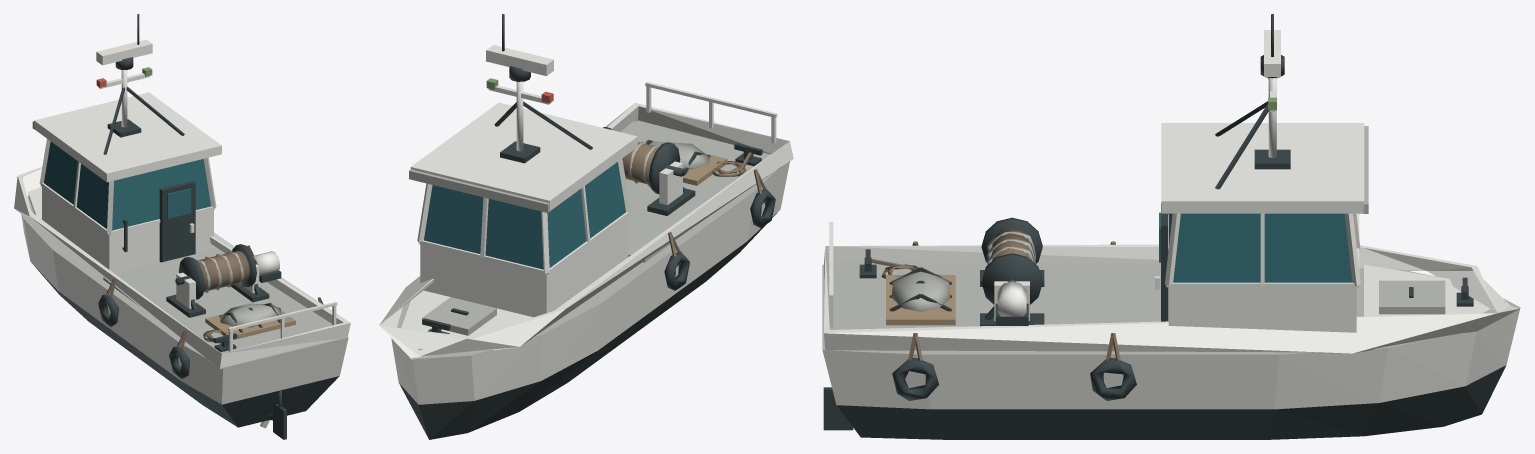
Rendered from ENV_FishingBoat_LOD1.fbx.
3 views of the same model, side by side, from view 1: azimuth 30°, elevation 25°; view 2: azimuth 150°, elevation 25°; view 3: azimuth 270°, elevation 25° (orthographic). The views are drawn at different scales.
Parts seen in each view (by area): view 1: ENV_FishingBoat_Root_Visual; view 2: ENV_FishingBoat_Root_Visual; view 3: ENV_FishingBoat_Root_Visual.
Part boxes in pixels (box(x1,y1,x2,y2)): ENV_FishingBoat_Root_Visual: box(14, 14, 350, 439); ENV_FishingBoat_Root_Visual: box(379, 14, 793, 439); ENV_FishingBoat_Root_Visual: box(822, 14, 1520, 439).
Size of the model in its own units: 276 by 522 by 780.
